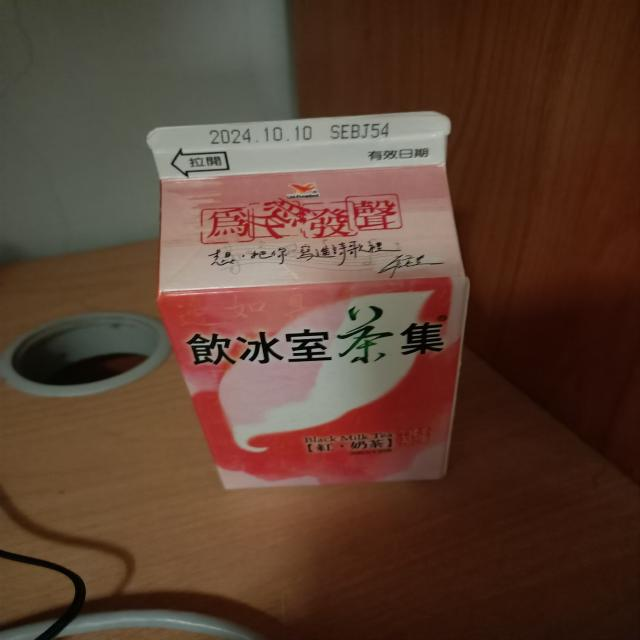YinBinShi_MilkTea: (130, 111, 484, 494)
